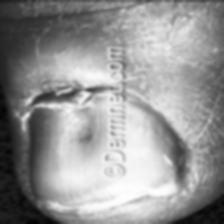Toxin: (35, 70, 94, 110), (142, 160, 192, 204)
